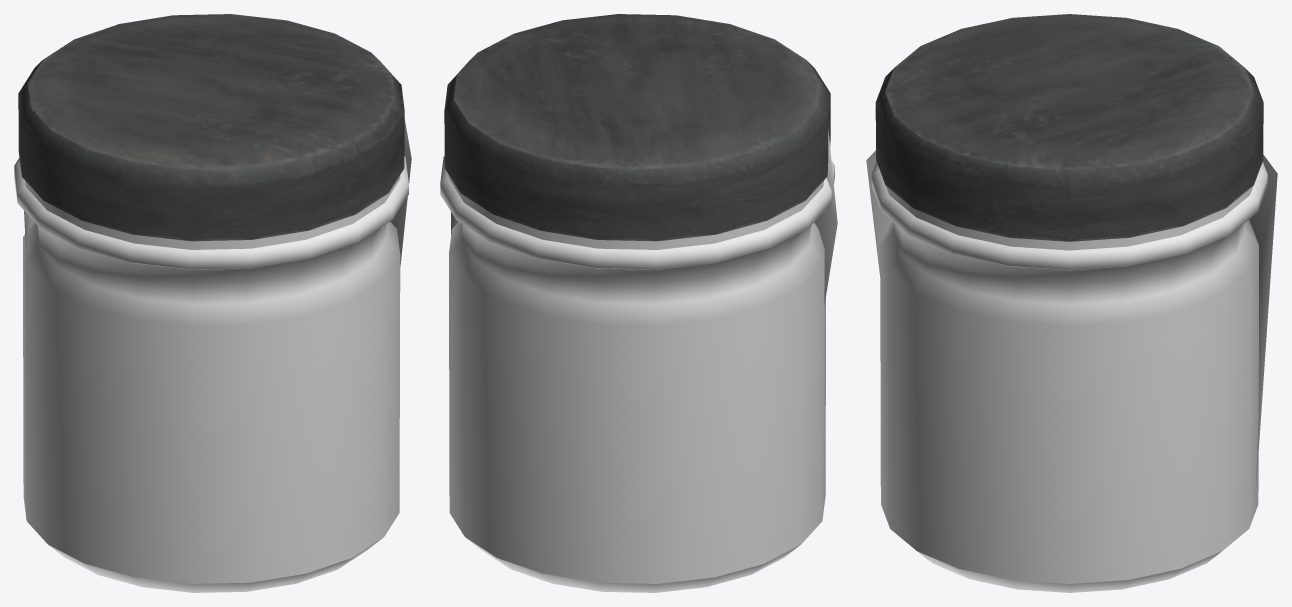
Rendered from SM_Jar.gltf.
3 renders of one model, left to right at view 1: azimuth 30°, elevation 25°; view 2: azimuth 150°, elevation 25°; view 3: azimuth 270°, elevation 25°, orthographic.
Parts seen in each view (by area): view 1: SM_Jar_LOD0, SM_Jar_ConvexHulls; view 2: SM_Jar_LOD0, SM_Jar_ConvexHulls; view 3: SM_Jar_LOD0, SM_Jar_ConvexHulls.
Part boxes in pixels (box(x1,y1,x2,y2)): SM_Jar_LOD0: box(14, 14, 408, 592); SM_Jar_ConvexHulls: box(24, 119, 411, 266); SM_Jar_LOD0: box(440, 14, 834, 592); SM_Jar_ConvexHulls: box(451, 129, 837, 305); SM_Jar_LOD0: box(871, 14, 1267, 592); SM_Jar_ConvexHulls: box(866, 150, 1277, 497).
Size of what is drawn, in the model's own units: 0.1968 by 0.2319 by 0.1968.
